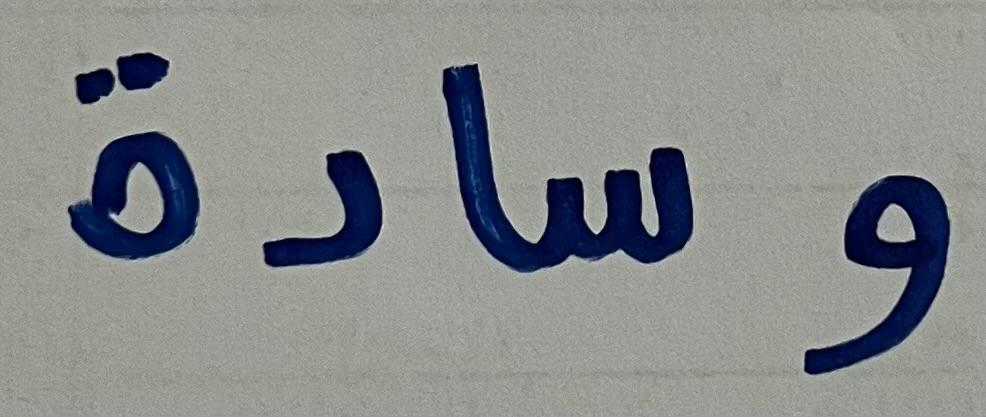alef: (423, 21, 517, 314)
dal: (234, 91, 414, 338)
seen: (525, 110, 746, 375)
teh_marbota: (32, 18, 224, 302)
waw: (753, 112, 973, 405)
